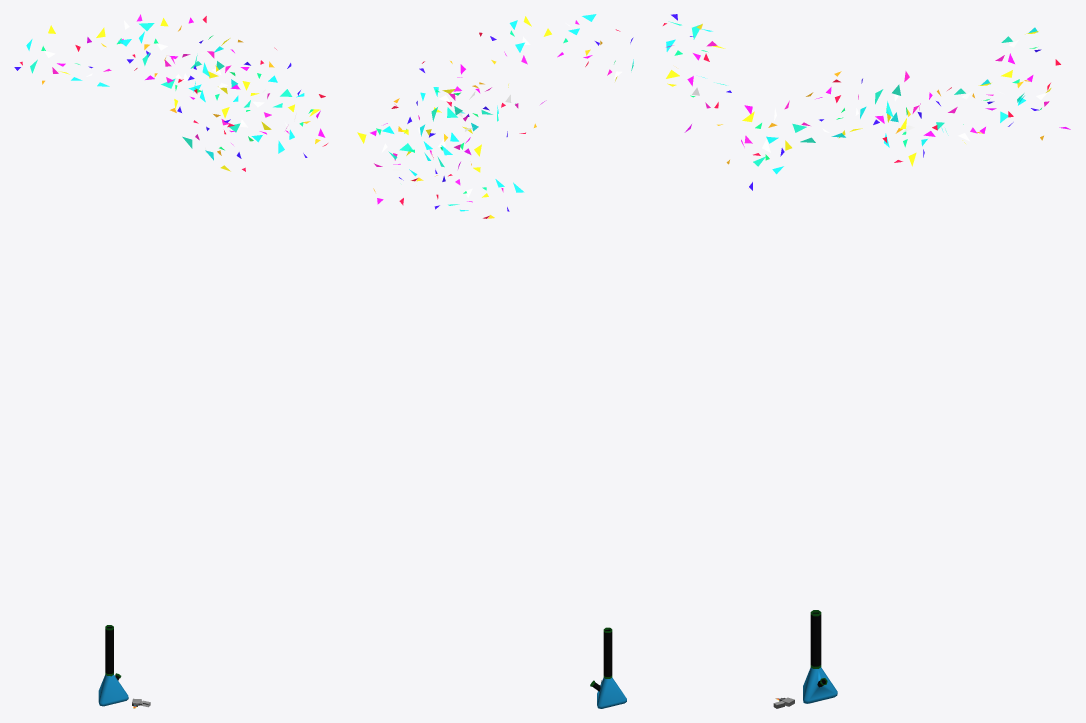
Rendered from bong.glb.
3 renders of one model, left to right at view 1: azimuth 30°, elevation 25°; view 2: azimuth 150°, elevation 25°; view 3: azimuth 270°, elevation 25°, orthographic. The views are drawn at different scales.
Parts seen in each view (by area): view 1: bong; view 2: bong; view 3: bong.
Part boxes in pixels (x1,y1,x2,y2): bong: [98, 625, 128, 706]; bong: [590, 627, 626, 708]; bong: [803, 610, 837, 703].
Size of the model in its own units: 3.16 by 9.21 by 4.74.
4 materials, 3 textured.
